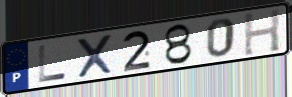0: (204, 17, 236, 60)
2: (122, 29, 153, 73)
8: (163, 23, 194, 66)
H: (243, 7, 282, 57)
L: (37, 43, 69, 84)
X: (74, 32, 116, 80)
